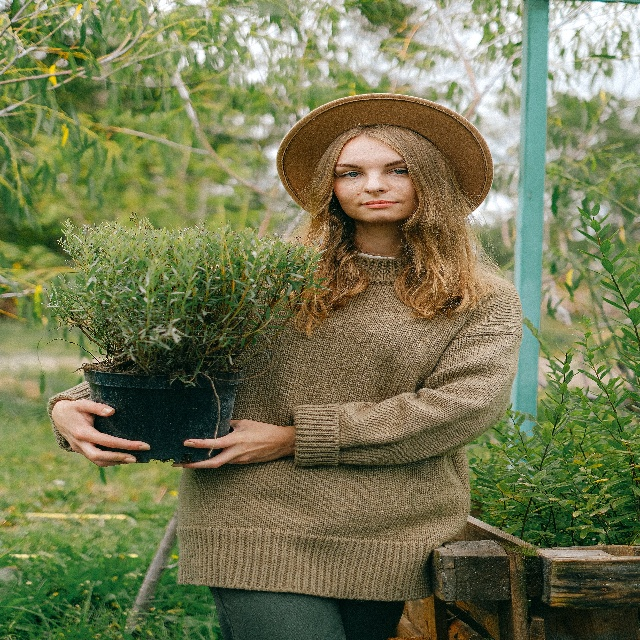Sin_guantes: (51, 395, 152, 467), (171, 418, 283, 469)
